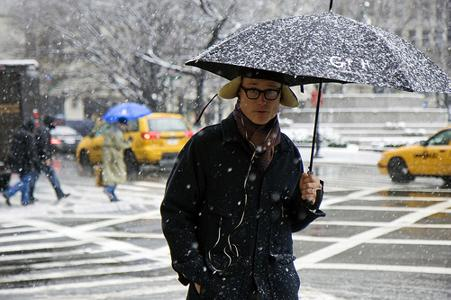person: (160, 68, 326, 300)
